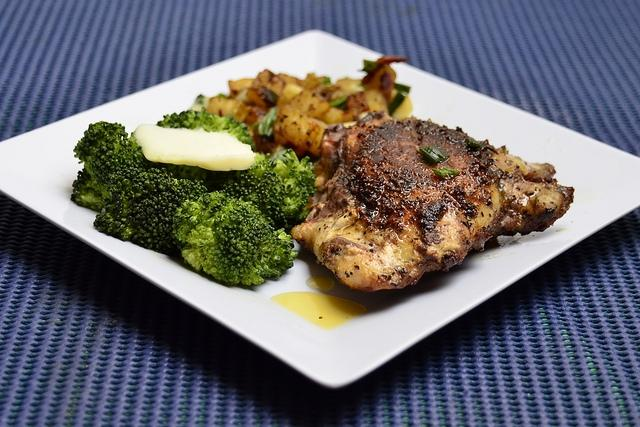broccoli: (170, 190, 298, 286), (94, 167, 208, 252), (220, 147, 318, 235), (157, 106, 256, 152), (140, 156, 249, 193), (73, 121, 148, 172), (70, 169, 106, 212)
potato: (273, 103, 330, 158), (288, 88, 332, 120), (206, 96, 252, 122), (250, 70, 286, 96), (277, 73, 319, 89), (362, 64, 387, 90), (365, 89, 389, 114), (228, 78, 256, 98), (322, 108, 349, 125), (246, 87, 266, 107), (282, 82, 303, 100), (327, 121, 357, 128), (312, 83, 326, 93)
